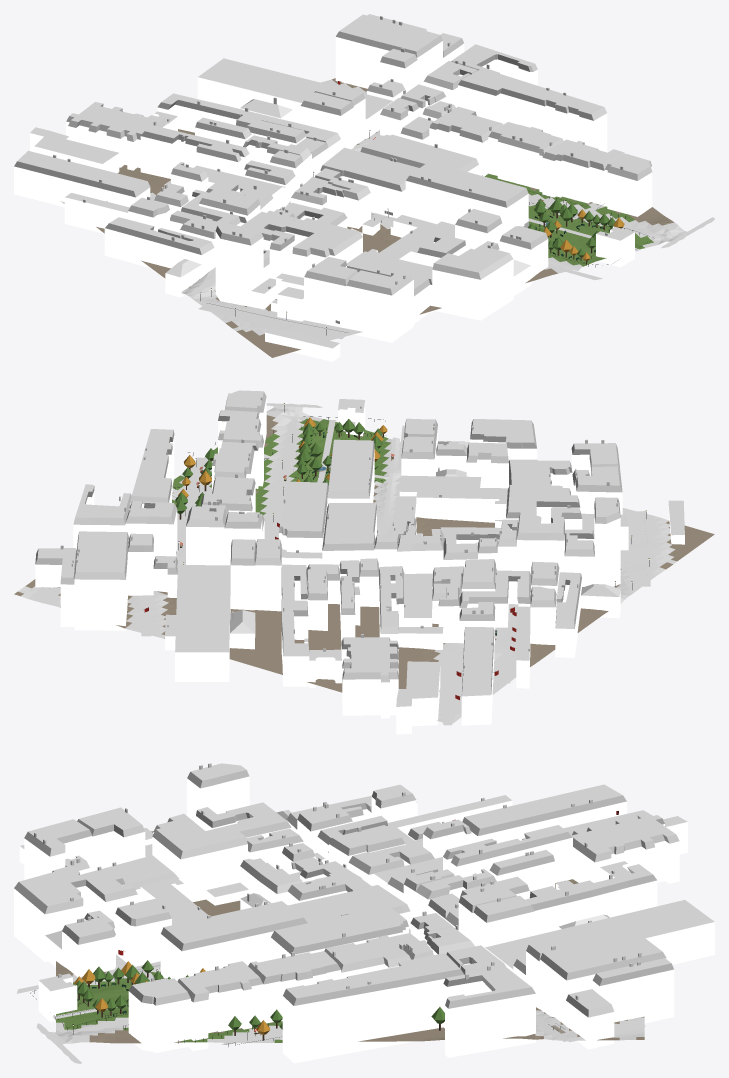
The model's file is zone_E4.glb.
3 renders of one model, top to bottom at view 1: azimuth 30°, elevation 25°; view 2: azimuth 150°, elevation 25°; view 3: azimuth 270°, elevation 25°, orthographic. The views are drawn at different scales.
Visible parts, largest first — view 1: zone_E4_batiments, zone_E4_terrain, zone_E4_sol_NOCOL, zone_E4_decor_NOCOL; view 2: zone_E4_batiments, zone_E4_terrain, zone_E4_sol_NOCOL, zone_E4_decor_NOCOL; view 3: zone_E4_batiments, zone_E4_terrain, zone_E4_decor_NOCOL, zone_E4_sol_NOCOL.
Boxes of the visible parts, <box> form: zone_E4_batiments: <box>14,14,652,361</box>; zone_E4_terrain: <box>60,78,683,357</box>; zone_E4_sol_NOCOL: <box>150,198,714,339</box>; zone_E4_decor_NOCOL: <box>200,130,668,335</box>; zone_E4_batiments: <box>35,390,684,734</box>; zone_E4_terrain: <box>14,407,714,723</box>; zone_E4_sol_NOCOL: <box>42,403,650,725</box>; zone_E4_decor_NOCOL: <box>174,403,649,635</box>; zone_E4_batiments: <box>14,763,714,1063</box>; zone_E4_terrain: <box>56,831,644,1043</box>; zone_E4_decor_NOCOL: <box>30,960,563,1046</box>; zone_E4_sol_NOCOL: <box>16,954,645,1063</box>.
Bounding box in the file's own units: 229 × 35.74 × 250.
